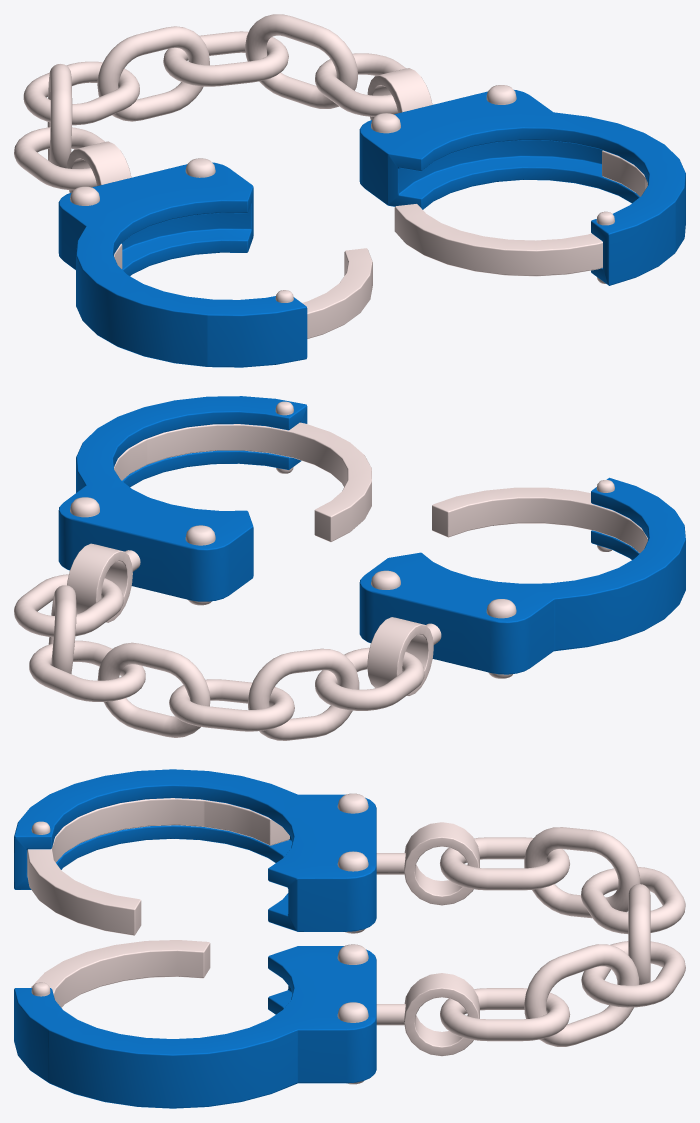
The model's file is Public_16_Hand_Cuffs_1.glb.
The picture shows the model from 3 angles, top to bottom: view 1: azimuth 30°, elevation 25°; view 2: azimuth 150°, elevation 25°; view 3: azimuth 270°, elevation 25°; orthographic projection. The views are drawn at different scales.
Parts seen in each view (by area): view 1: Public_16_Hand_Cuffs_1; view 2: Public_16_Hand_Cuffs_1; view 3: Public_16_Hand_Cuffs_1.
Part boxes in pixels (bbox=[...]): Public_16_Hand_Cuffs_1: bbox=[14, 14, 685, 367]; Public_16_Hand_Cuffs_1: bbox=[14, 396, 685, 740]; Public_16_Hand_Cuffs_1: bbox=[14, 769, 685, 1108].
Bounding box in the file's own units: 1.86 × 0.2854 × 1.86.
Materials: 1 (1 with a texture image).
